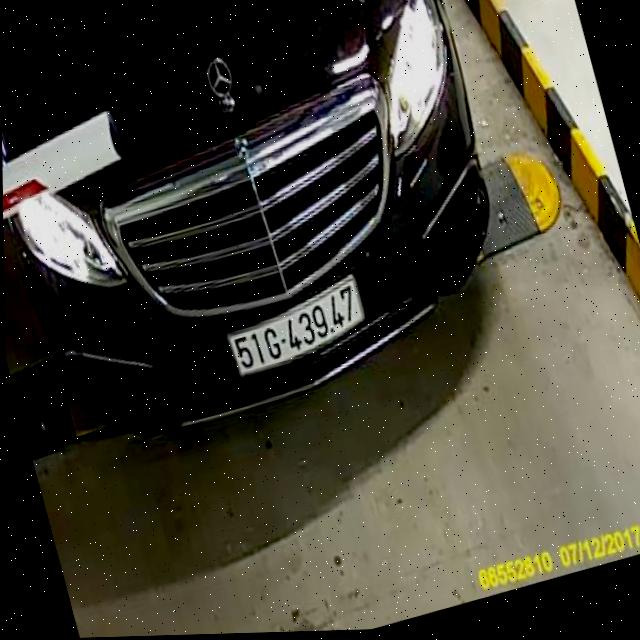car: (0, 0, 543, 482)
plate: (218, 274, 379, 384)
